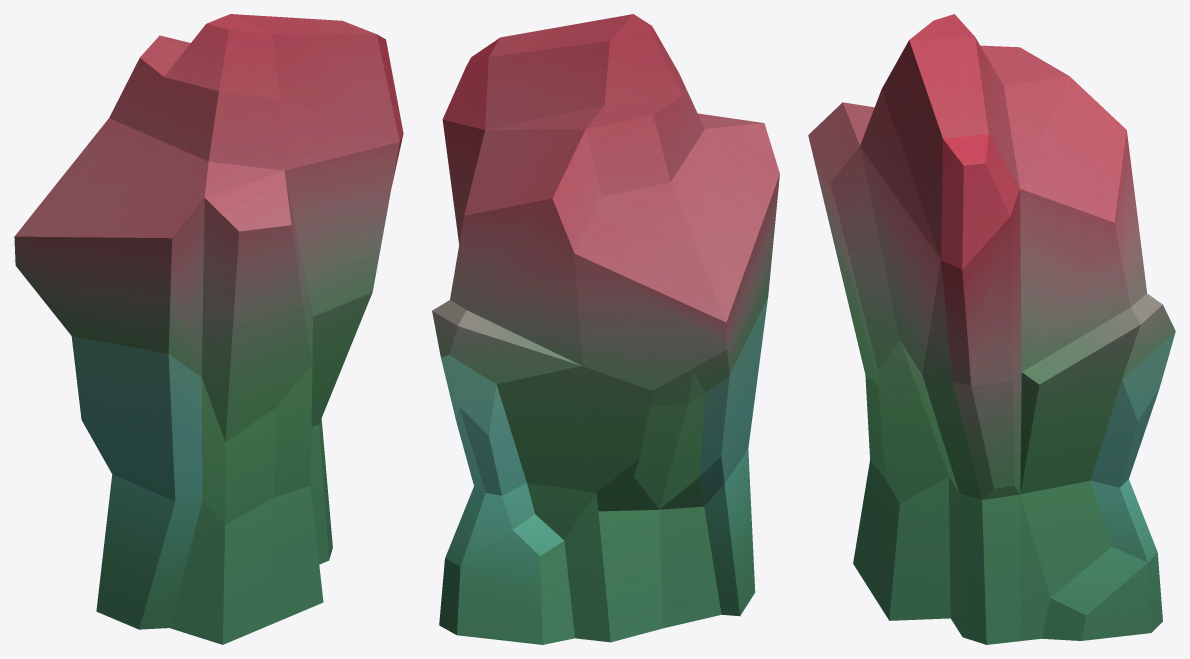
The model's file is Cliffd_lush.FBX.
The picture shows the model from 3 angles, left to right: view 1: azimuth 30°, elevation 25°; view 2: azimuth 150°, elevation 25°; view 3: azimuth 270°, elevation 25°; orthographic projection. The views are drawn at different scales.
Visible parts, largest first — view 1: cliffd_lush; view 2: cliffd_lush; view 3: cliffd_lush.
Boxes of the visible parts, left/top/right/bottom form: cliffd_lush: left=14, top=14, right=403, bottom=644; cliffd_lush: left=432, top=14, right=779, bottom=644; cliffd_lush: left=808, top=14, right=1175, bottom=644.
Size of the model in its own units: 17.75 by 29.14 by 17.13.
